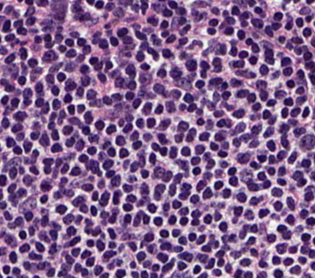nucleus: (43, 50, 56, 61), (148, 48, 158, 60), (126, 64, 135, 77), (40, 133, 49, 146), (170, 68, 181, 78), (179, 79, 190, 89), (159, 119, 170, 129), (186, 60, 196, 70), (263, 127, 273, 137), (166, 101, 175, 112), (142, 103, 151, 114), (281, 134, 288, 148), (66, 80, 75, 90), (153, 84, 163, 93), (178, 121, 188, 130), (50, 63, 61, 71), (233, 109, 244, 117), (84, 112, 92, 123), (239, 134, 251, 141), (151, 35, 160, 44), (28, 58, 37, 67), (87, 90, 96, 99), (236, 123, 245, 132), (147, 17, 157, 25), (252, 19, 262, 27), (117, 28, 127, 36), (135, 31, 145, 39), (136, 51, 144, 61), (115, 77, 123, 87), (256, 80, 266, 88), (170, 90, 180, 98), (290, 108, 300, 116), (62, 126, 72, 134), (199, 132, 209, 140), (233, 60, 244, 67), (230, 79, 241, 86), (237, 90, 248, 97), (141, 1, 147, 13), (72, 4, 81, 12), (114, 8, 123, 16), (181, 25, 190, 33), (166, 35, 175, 43), (99, 39, 107, 48), (66, 49, 75, 57), (162, 49, 171, 57), (260, 65, 268, 74), (81, 76, 89, 85), (209, 78, 221, 84), (35, 98, 44, 106), (147, 118, 155, 127), (95, 120, 103, 129), (123, 124, 132, 132), (280, 124, 289, 132), (106, 125, 115, 133), (130, 131, 138, 140), (158, 134, 166, 143), (79, 13, 89, 20), (265, 26, 272, 36), (35, 82, 42, 92), (260, 90, 267, 100), (275, 91, 285, 98), (133, 98, 140, 108), (53, 99, 60, 109), (42, 103, 49, 113), (302, 107, 309, 117), (69, 117, 79, 124), (294, 128, 304, 135), (214, 133, 224, 140), (274, 12, 282, 20), (303, 28, 311, 36), (110, 37, 118, 45), (65, 63, 73, 71), (80, 65, 88, 73), (157, 69, 165, 77), (57, 73, 65, 81), (196, 80, 204, 88), (222, 91, 230, 99), (184, 94, 192, 102), (103, 96, 111, 104), (188, 103, 196, 111), (252, 125, 260, 133), (168, 1, 177, 8), (237, 30, 244, 39), (281, 58, 290, 65), (283, 68, 292, 75), (297, 70, 304, 79), (98, 73, 105, 82), (46, 74, 53, 83), (112, 93, 121, 100), (248, 93, 255, 102), (297, 96, 306, 103), (292, 37, 302, 43), (232, 6, 239, 14), (177, 7, 185, 14), (163, 9, 171, 16), (209, 19, 217, 26), (224, 27, 232, 34), (55, 34, 62, 42), (77, 38, 85, 45), (65, 39, 73, 46), (83, 45, 90, 53), (265, 49, 272, 57), (239, 51, 247, 58), (249, 56, 256, 64), (265, 57, 273, 64), (213, 58, 220, 66), (201, 61, 208, 69), (94, 62, 101, 70), (140, 75, 148, 82), (128, 81, 135, 89), (52, 86, 59, 94), (64, 94, 71, 102), (284, 98, 292, 105), (267, 99, 275, 106), (252, 103, 260, 110), (155, 105, 162, 113), (263, 110, 270, 118), (136, 119, 143, 127), (175, 134, 182, 142), (36, 0, 47, 5), (309, 73, 314, 84), (252, 43, 258, 52), (230, 47, 236, 56), (77, 87, 83, 96), (213, 92, 219, 101), (68, 105, 74, 114), (52, 130, 58, 139), (96, 1, 103, 8), (106, 3, 113, 10), (161, 21, 168, 28), (34, 36, 41, 43), (294, 47, 301, 54), (304, 52, 311, 59), (90, 57, 97, 64), (287, 80, 294, 87), (126, 92, 133, 99), (207, 102, 214, 109), (77, 105, 84, 112), (217, 119, 224, 126), (82, 127, 89, 134), (31, 132, 38, 139), (144, 133, 151, 140), (226, 17, 234, 23), (296, 18, 302, 26), (272, 23, 280, 29), (207, 28, 215, 34), (44, 34, 50, 42), (123, 37, 131, 43), (179, 38, 187, 44), (106, 61, 112, 69), (305, 62, 313, 68), (59, 111, 65, 119), (189, 128, 195, 136), (300, 8, 309, 13), (282, 108, 287, 117), (214, 111, 223, 116), (254, 7, 261, 13), (211, 8, 218, 14), (242, 12, 249, 18), (179, 17, 185, 24), (285, 22, 291, 29), (278, 36, 284, 43), (141, 41, 147, 48), (200, 70, 206, 77), (221, 82, 227, 89), (296, 87, 303, 93), (268, 118, 275, 124), (55, 14, 63, 19), (70, 32, 78, 37), (220, 45, 225, 53), (141, 64, 149, 69), (34, 68, 42, 73), (246, 38, 252, 44), (286, 43, 292, 49), (59, 45, 65, 51), (179, 104, 185, 110), (126, 115, 132, 121), (197, 118, 203, 124), (48, 122, 54, 128), (248, 0, 255, 5), (161, 31, 168, 36), (45, 42, 52, 47), (77, 55, 84, 60), (214, 66, 221, 71), (50, 113, 55, 120), (225, 119, 230, 126), (289, 119, 296, 124), (207, 120, 211, 128), (241, 21, 247, 26), (180, 52, 185, 58), (118, 119, 123, 125), (306, 16, 311, 21), (273, 72, 278, 77), (197, 109, 202, 114), (87, 0, 93, 4), (226, 105, 232, 109), (311, 39, 314, 46), (223, 11, 227, 16), (249, 73, 254, 76), (105, 24, 109, 27)
